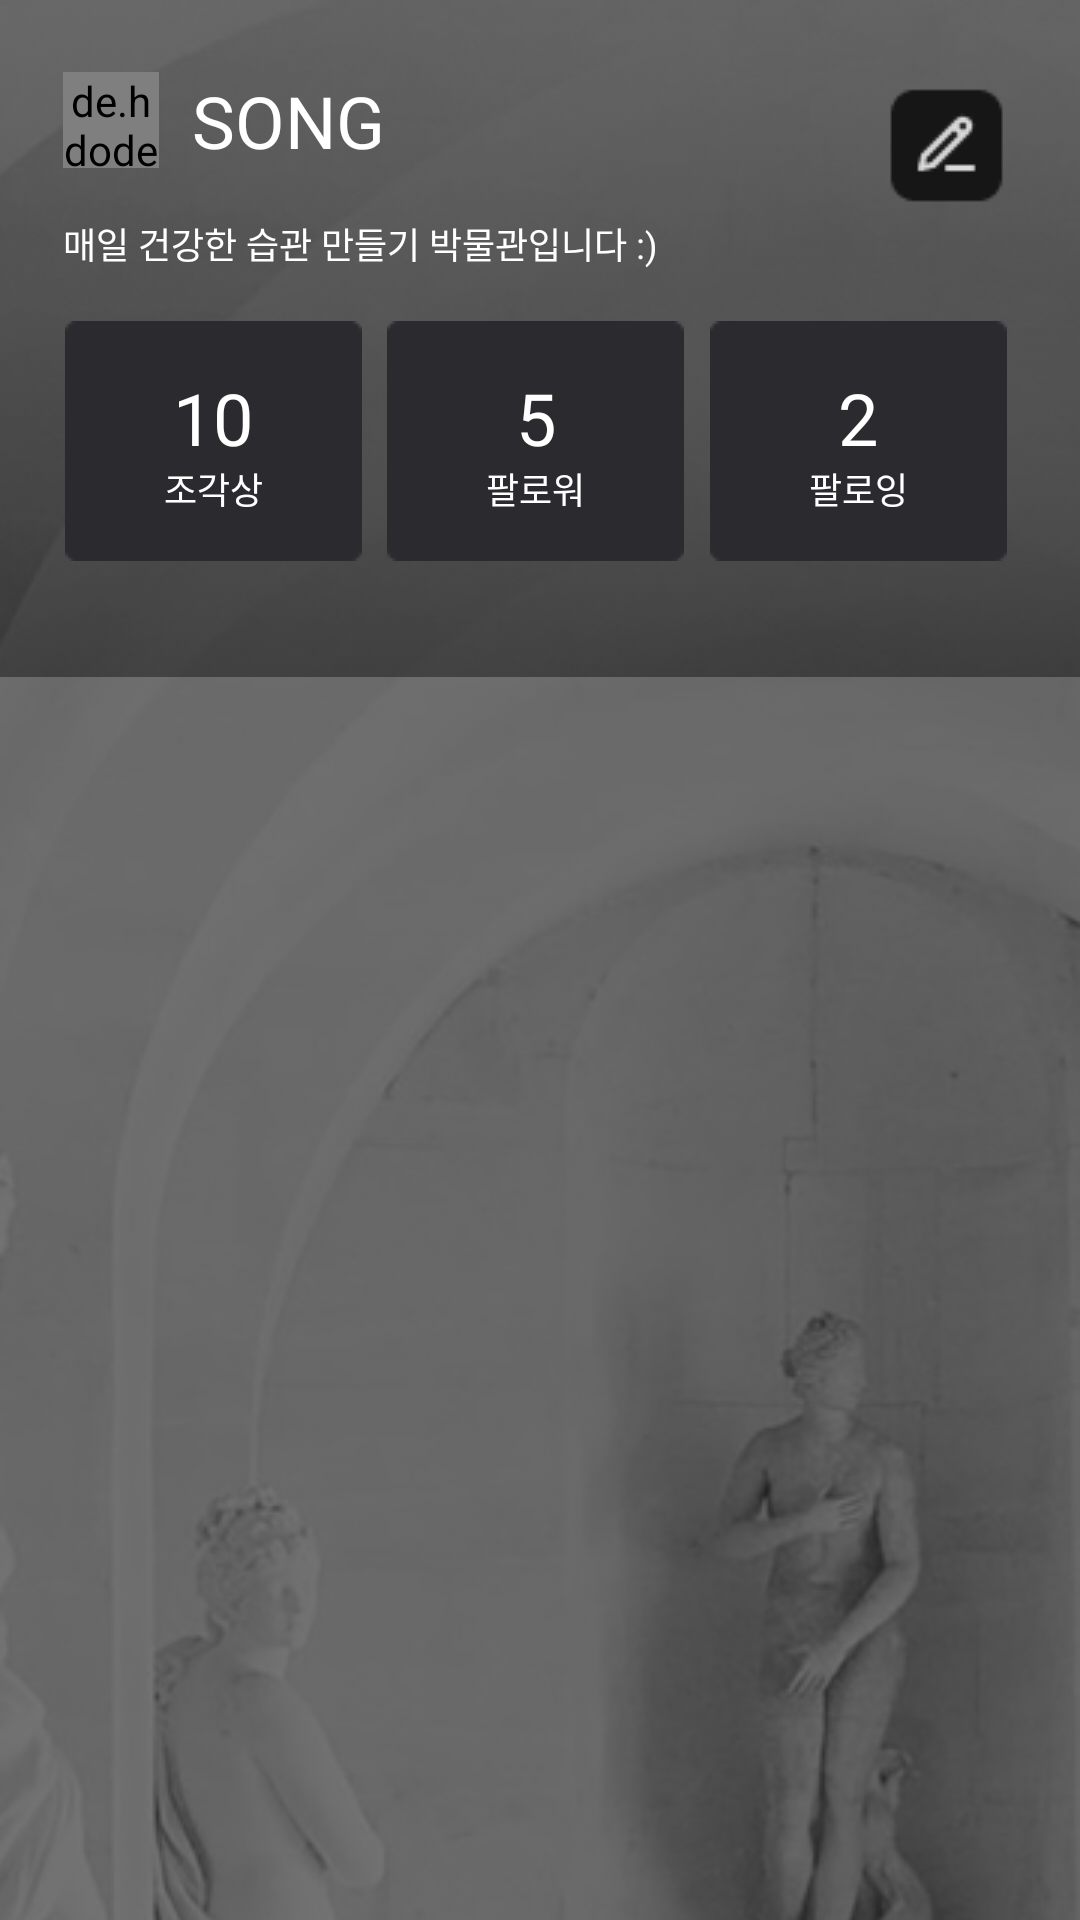

Icons on this 1080 x 1920 Android screen, each with the point to tap as (x=x, y=y):
museum write: (x=947, y=146)
